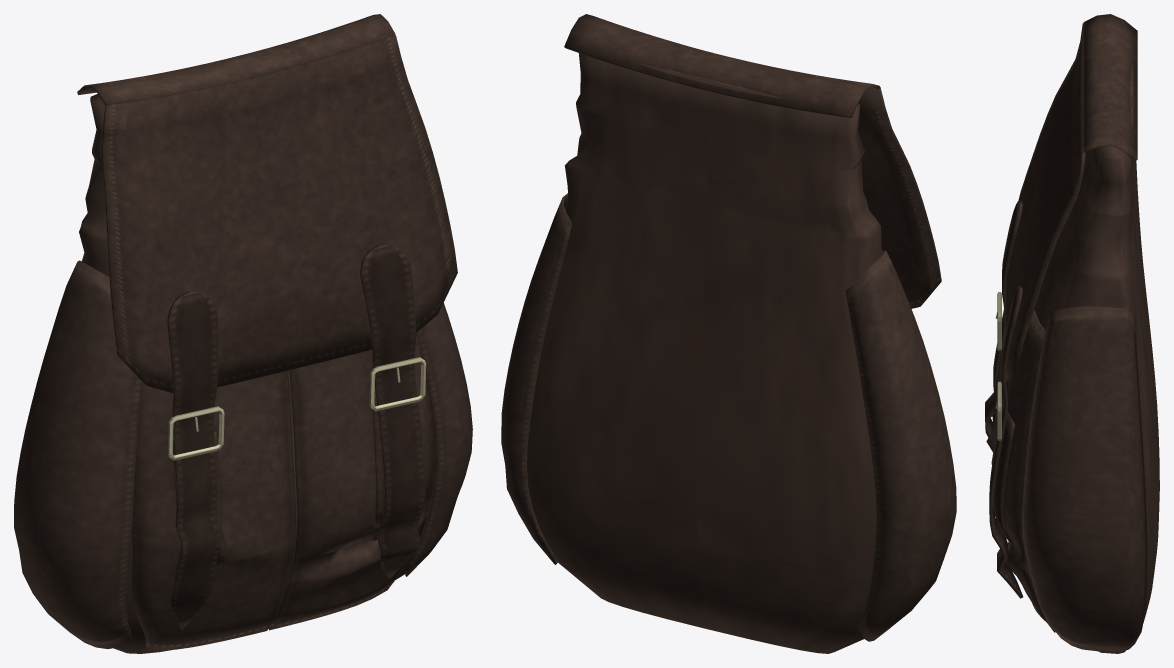
Rendered from MillooDarkLeather.glb.
The picture shows the model from 3 angles, left to right: view 1: azimuth 30°, elevation 25°; view 2: azimuth 150°, elevation 25°; view 3: azimuth 270°, elevation 25°; orthographic projection. The views are drawn at different scales.
Visible parts, largest first — view 1: Dark leather Game Mesh; view 2: Dark leather Game Mesh; view 3: Dark leather Game Mesh.
Part boxes in pixels (bbox=[...]): Dark leather Game Mesh: bbox=[14, 14, 472, 653]; Dark leather Game Mesh: bbox=[501, 14, 956, 653]; Dark leather Game Mesh: bbox=[985, 14, 1159, 653].
Size of the model in its own units: 0.9344 by 1.19 by 0.3613.
1 material, 1 textured.
